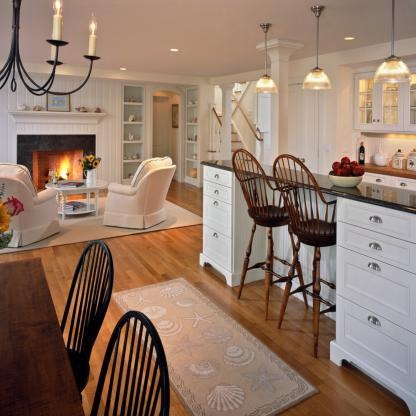chair: (216, 139, 295, 299), (278, 147, 344, 336), (88, 309, 183, 416), (57, 240, 113, 379), (99, 152, 182, 232), (0, 162, 64, 250)
light: (374, 0, 409, 85), (300, 4, 331, 94), (255, 14, 277, 98)
table: (0, 257, 84, 416), (44, 175, 114, 222)
